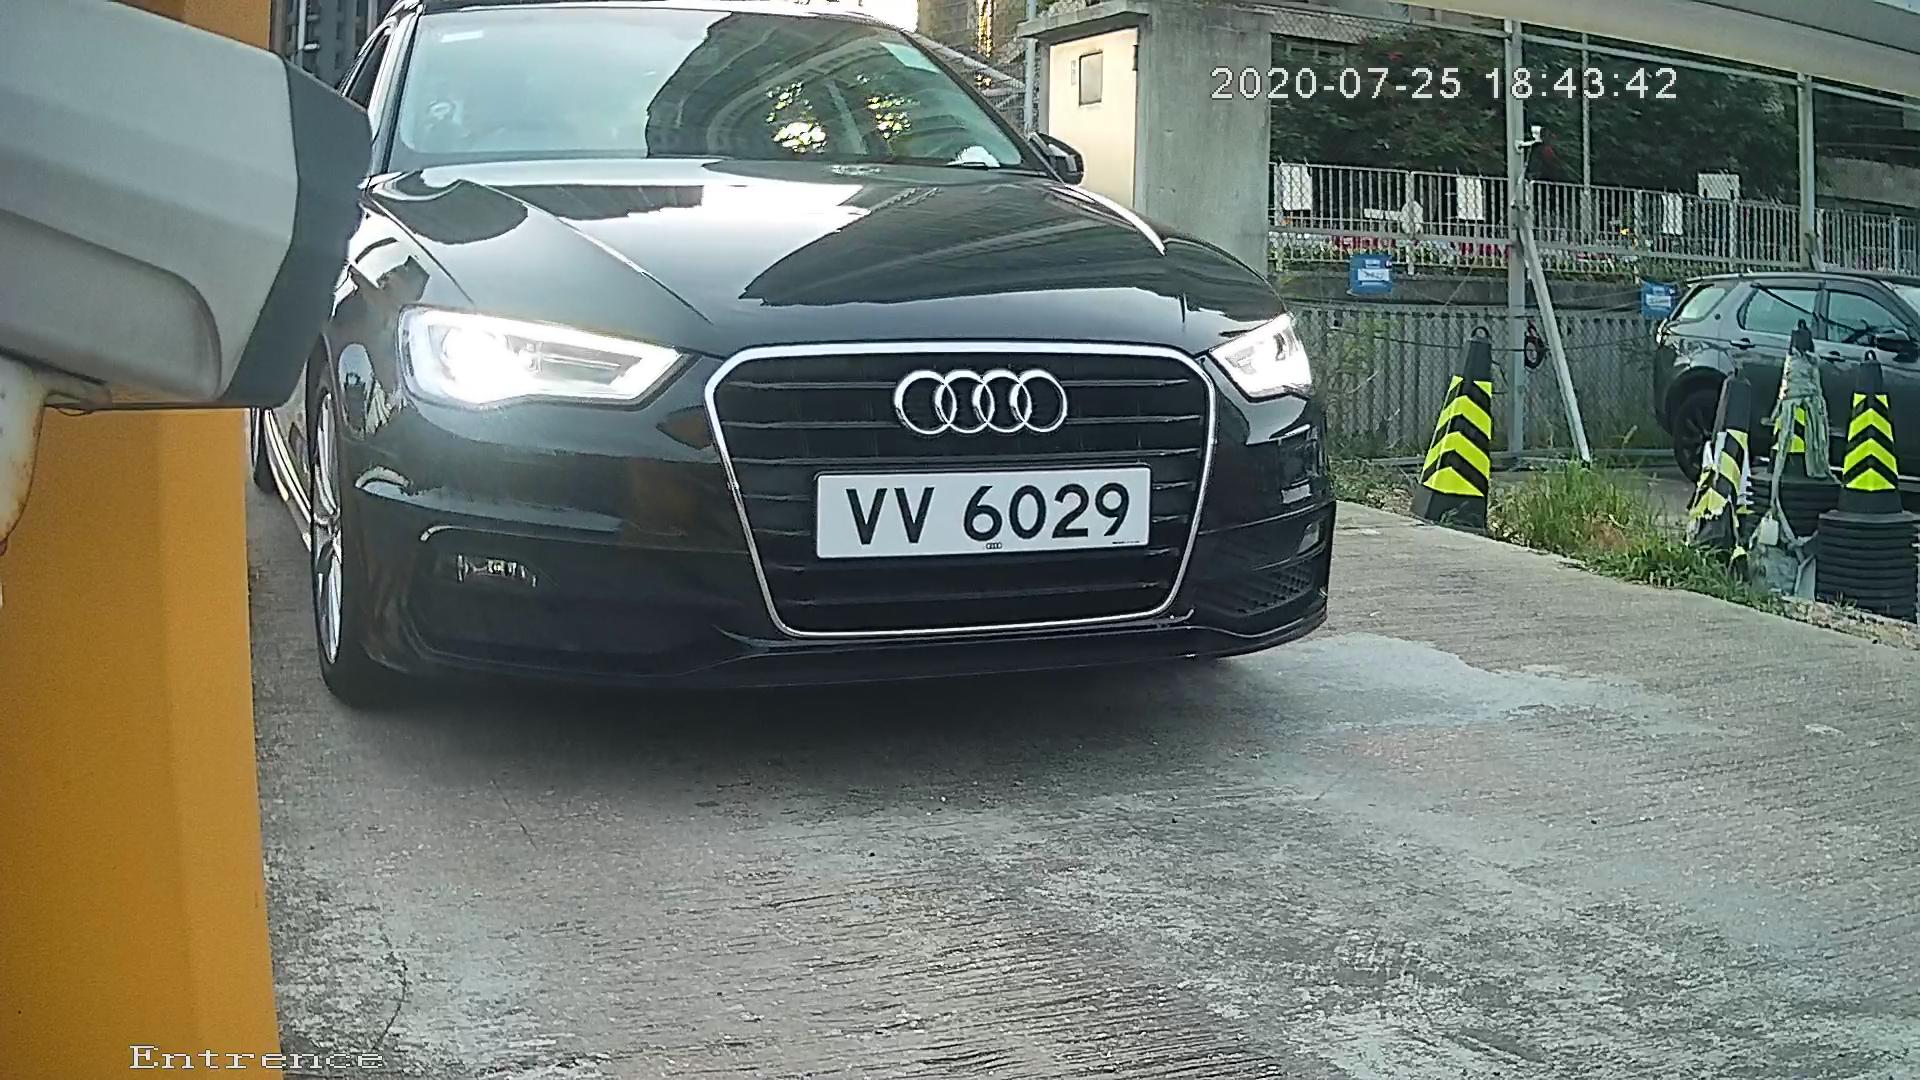License Plate: (781, 454, 1175, 569)
